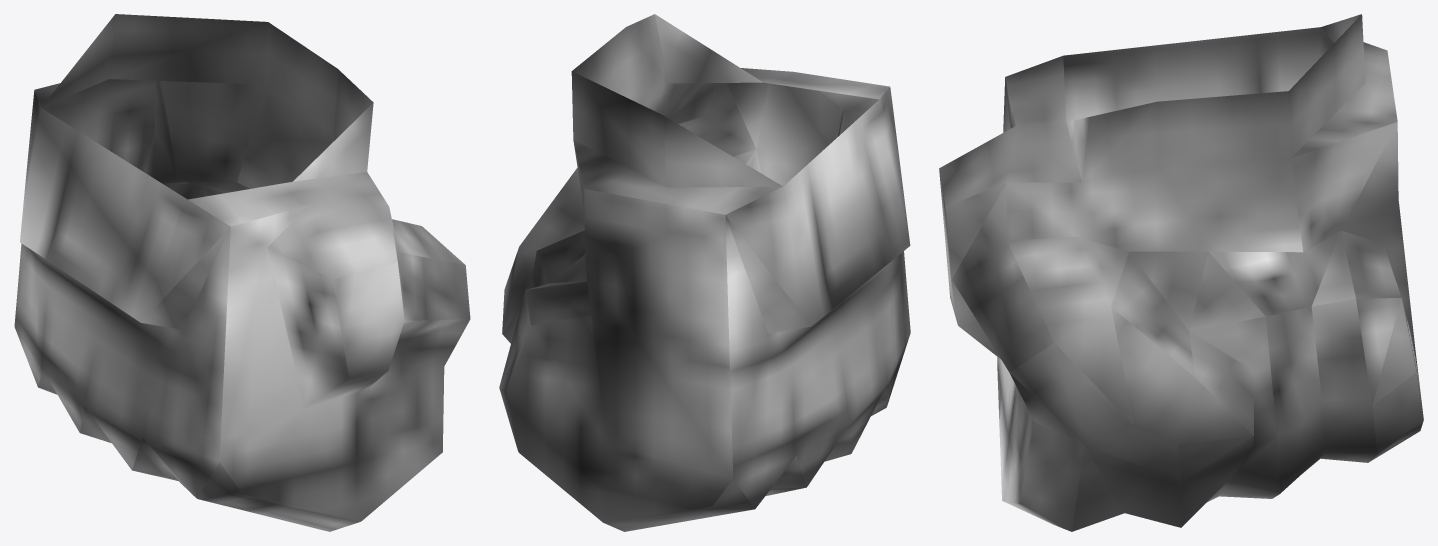
The model's file is r_hand.glb.
The picture shows the model from 3 angles, left to right: view 1: azimuth 30°, elevation 25°; view 2: azimuth 150°, elevation 25°; view 3: azimuth 270°, elevation 25°; orthographic projection. The views are drawn at different scales.
Visible parts, largest first — view 1: r_hand; view 2: r_hand; view 3: r_hand.
Boxes of the visible parts, left/top/right/bottom form: r_hand: left=14, top=14, right=470, bottom=531; r_hand: left=499, top=14, right=910, bottom=531; r_hand: left=939, top=14, right=1423, bottom=531.
Size of the model in its own units: 0.2531 by 0.302 by 0.2785.
1 material, 1 textured.
